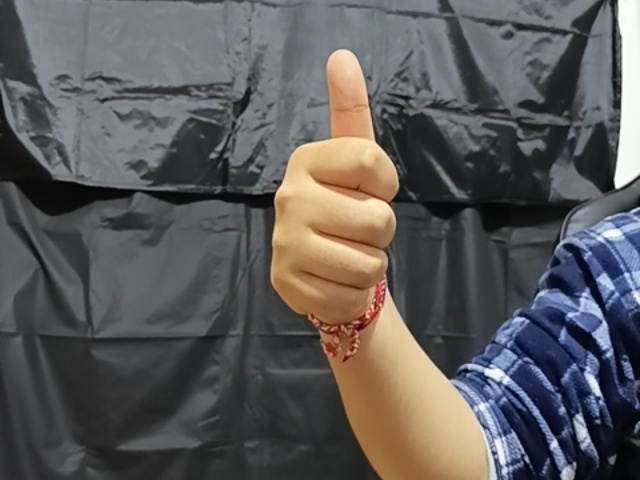A: (261, 47, 413, 322)
